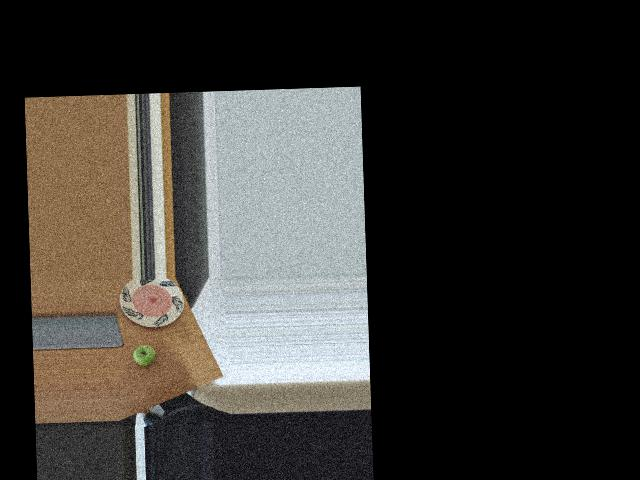apple: (132, 343, 159, 371)
